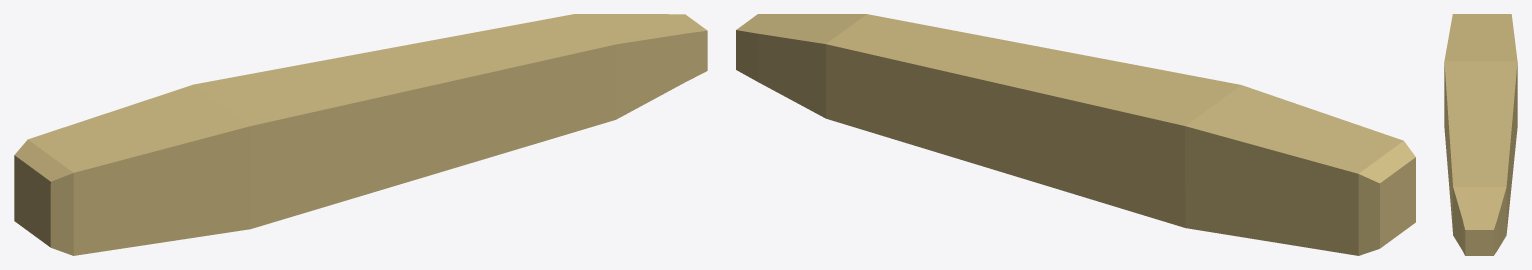
Rendered from cornNaked.fbx.
3 views of the same model, side by side, from view 1: azimuth 30°, elevation 25°; view 2: azimuth 150°, elevation 25°; view 3: azimuth 270°, elevation 25° (orthographic). The views are drawn at different scales.
Visible parts, largest first — view 1: cornNaked; view 2: cornNaked; view 3: cornNaked.
Boxes of the visible parts, x1,y1,x2,y2 form: cornNaked: [14, 14, 707, 255]; cornNaked: [736, 14, 1415, 255]; cornNaked: [1444, 14, 1517, 255].
Size of the model in its own units: 16.77 by 2.5 by 2.5.
1 material, 1 textured.
